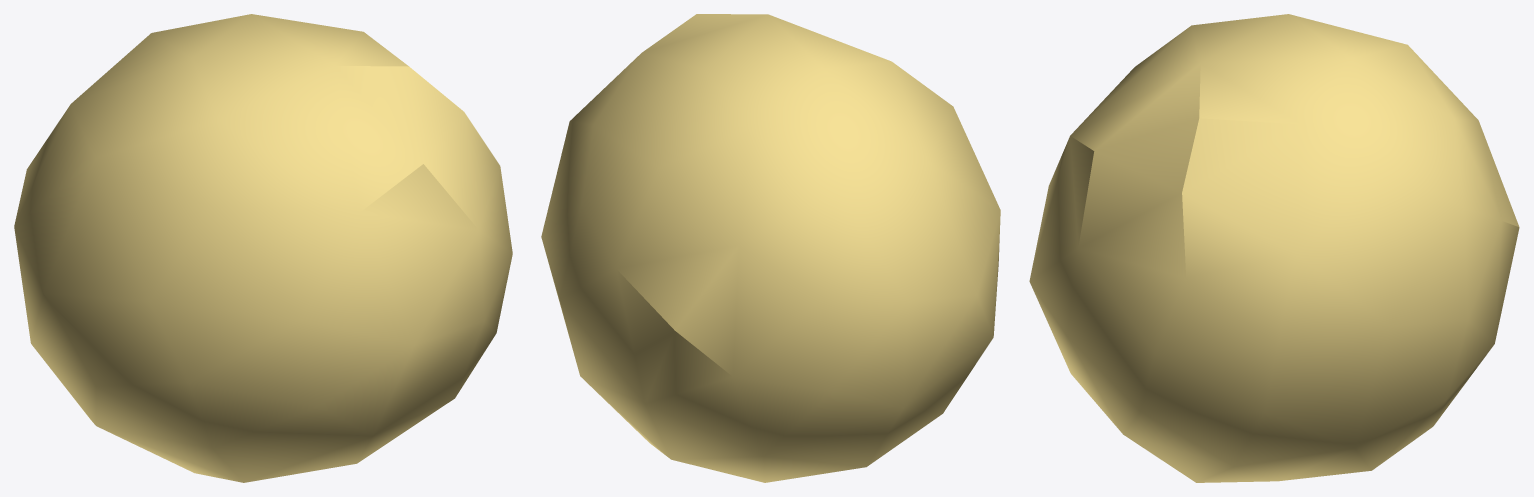
The model's file is fma73801_mm2663m.glb.
3 views of the same model, side by side, from view 1: azimuth 30°, elevation 25°; view 2: azimuth 150°, elevation 25°; view 3: azimuth 270°, elevation 25° (orthographic). The views are drawn at different scales.
Parts seen in each view (by area): view 1: FMA73801_MM2663M; view 2: FMA73801_MM2663M; view 3: FMA73801_MM2663M.
Part boxes in pixels (x1,y1,x2,y2): FMA73801_MM2663M: [14, 14, 512, 482]; FMA73801_MM2663M: [541, 14, 1000, 482]; FMA73801_MM2663M: [1029, 14, 1519, 482].
Bounding box in the file's own units: 0.00124 × 0.00111 × 0.00121.
